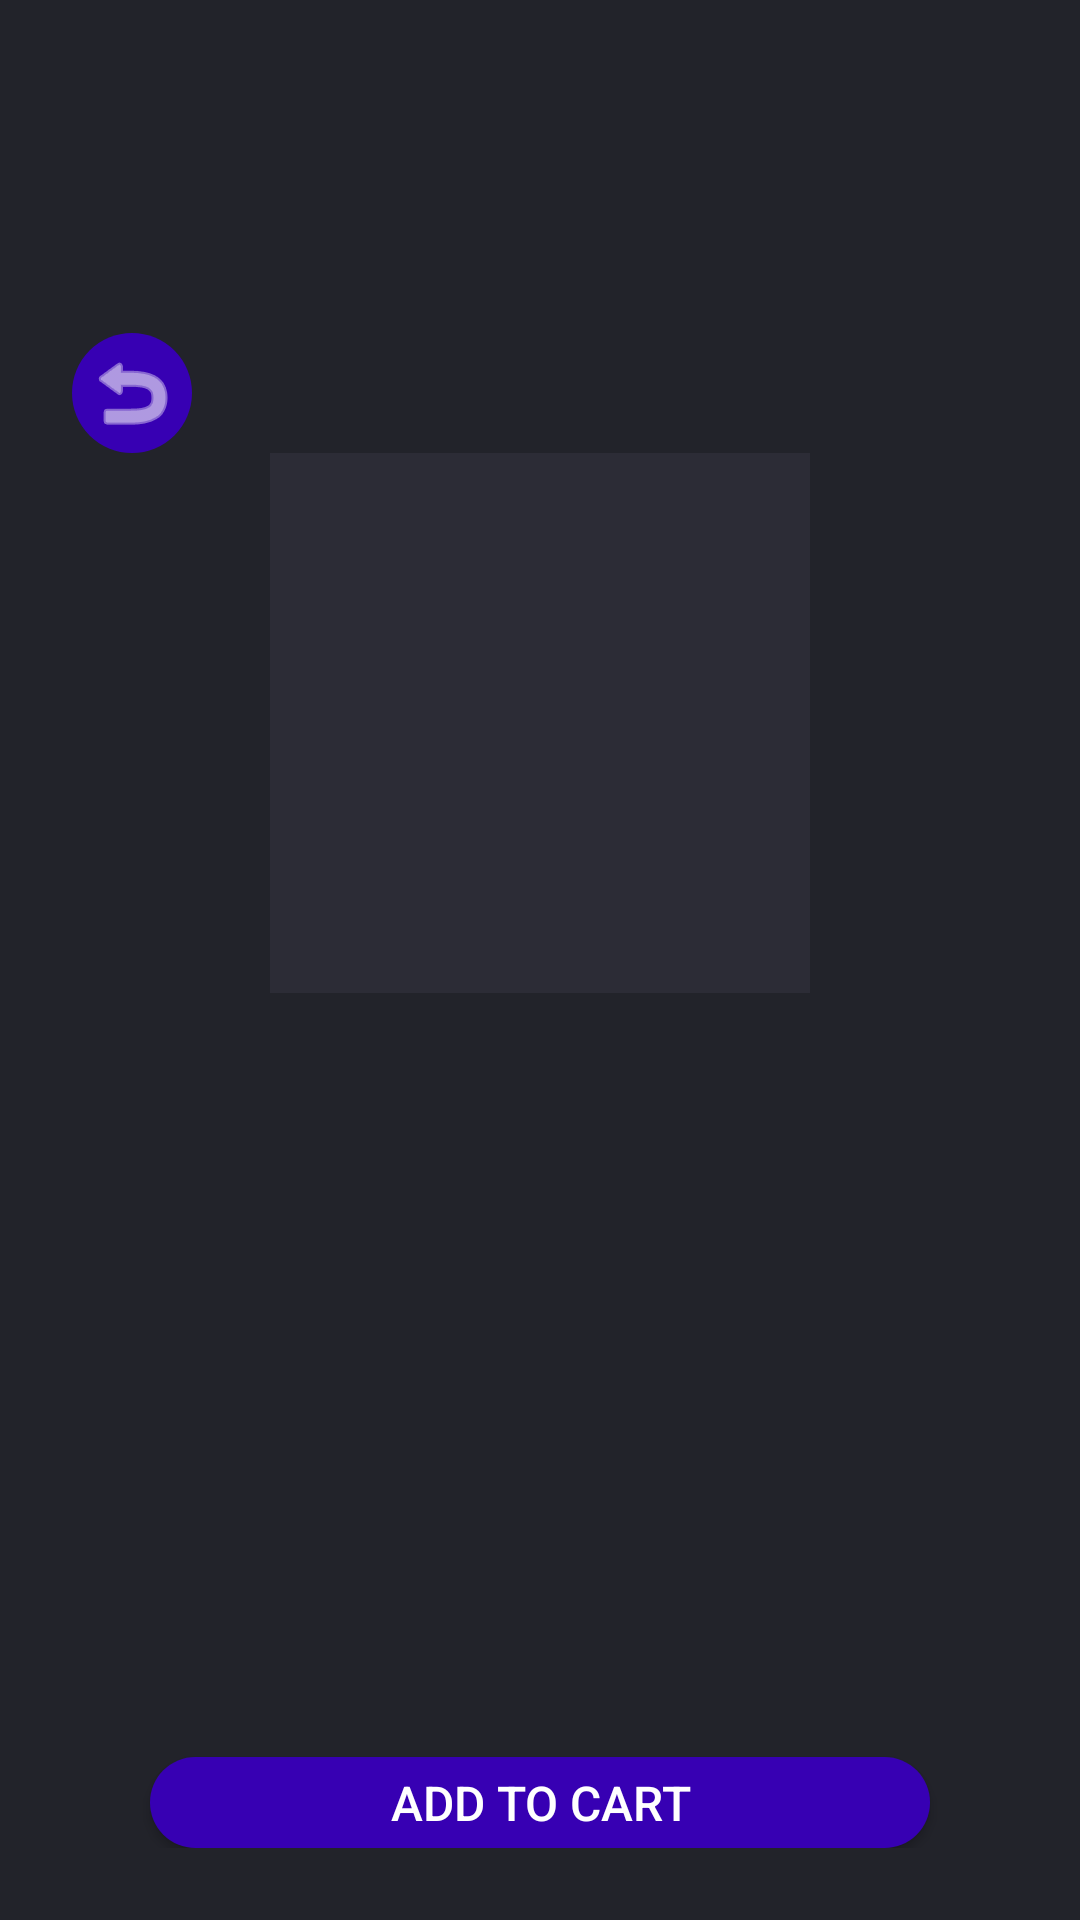

Where icons sit on this 1080 × 1920 app screen, as (x1, y1, x2, y2):
Back: (72, 333, 192, 453)
